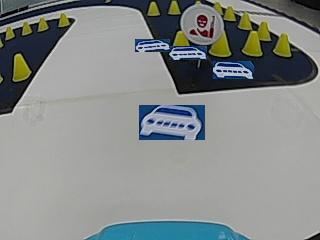evil: (180, 5, 223, 45)
